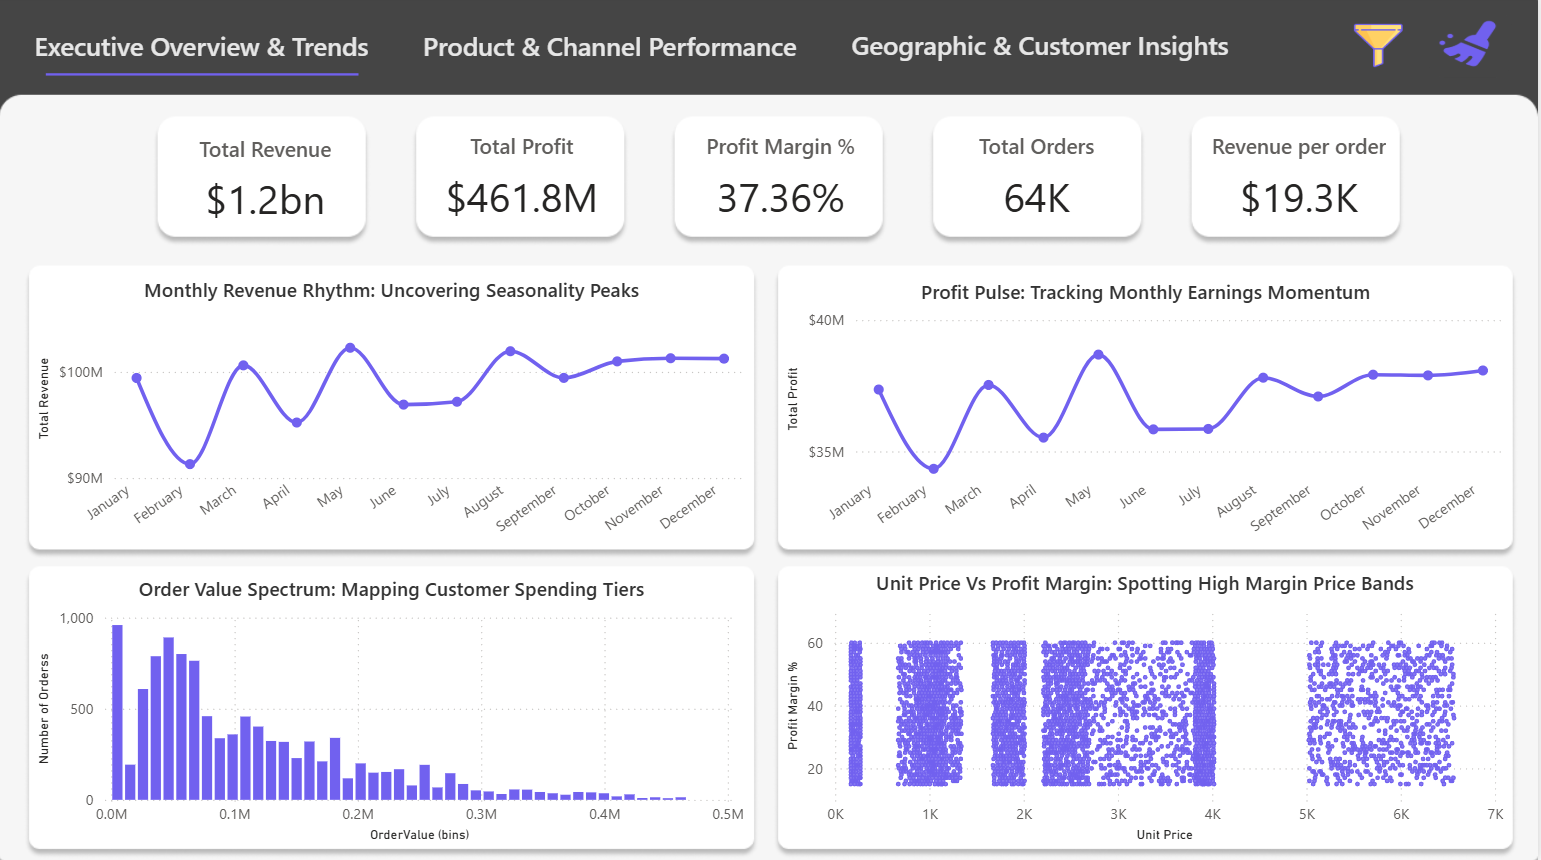

What the dashboard file says about the page in this screenshot:
{"tool":"powerbi","page":{"name":"Executive Overview & Trends","canvas":[1280,720],"ordinal":0},"visuals":[{"type":"cardVisual","fields":{"Data":["Measures_.Total Revenue"]},"box":[142,101,158,104],"z":0},{"type":"cardVisual","fields":{"Data":["Measures_.Total Profit"]},"box":[350,100,169.2,103.8],"z":1000},{"type":"cardVisual","fields":{"Data":["Measures_.Profit Margin %"]},"box":[552.6,100,194.9,103.8],"z":2000},{"type":"cardVisual","fields":{"Data":["Measures_.Total Orders"]},"box":[787.2,100,152.6,103.8],"z":3000},{"type":"cardVisual","fields":{"Data":["Measures_.Revenue per order"]},"box":[988.3,100,185,103.3],"z":4000},{"type":"lineChart","title":"Monthly Revenue Rhythm: Uncovering Seasonality Peaks","fields":{"Category":["Sales_data.order_month_name"],"Y":["Measures_.Total Revenue"]},"box":[26.9,233.3,598.7,235.9],"z":5000},{"type":"lineChart","title":"Profit Pulse: Tracking Monthly Earnings Momentum","fields":{"Category":["Sales_data.order_month_name"],"Y":["Measures_.Total Profit"]},"box":[650,234.6,607.7,234.6],"z":6000},{"type":"scatterChart","title":"Unit Price Vs Profit Margin: Spotting High Margin Price Bands","fields":{"X":["Sales_data.unit_price"],"Y":["Sales_data.profit_margin_pct"]},"box":[650,476.9,606.4,232.1],"z":7000},{"type":"columnChart","title":"Order Value Spectrum: Mapping Customer Spending Tiers","fields":{"Category":["Order_Value_Distribution.OrderValue (bins)"],"Y":["CountNonNull(Order_Value_Distribution.order_number)"]},"box":[26.9,482.1,598.7,226.9],"z":8000},{"type":"actionButton","box":[337.2,14.1,342.3,55.1],"z":10000},{"type":"actionButton","box":[9,14.1,317.9,55.1],"z":11000},{"type":"actionButton","box":[693.8,13.8,342.5,55],"z":12000},{"type":"actionButton","box":[1188,14,70,55],"z":14000},{"type":"actionButton","box":[1120,21,53,42],"z":14500}]}

Visuals, with their boxes in screenshot pixels (x1, y1, x2, y2), scaled from the page's 1280x720 canvas onto the 1541x860 screenshot:
cardVisual - Measures_.Total Revenue: (171,121,361,245)
cardVisual - Measures_.Total Profit: (421,119,625,243)
cardVisual - Measures_.Profit Margin %: (665,119,900,243)
cardVisual - Measures_.Total Orders: (948,119,1131,243)
cardVisual - Measures_.Revenue per order: (1190,119,1413,243)
"Monthly Revenue Rhythm: Uncovering Seasonality Peaks" lineChart: (32,279,753,560)
"Profit Pulse: Tracking Monthly Earnings Momentum" lineChart: (783,280,1514,560)
"Unit Price Vs Profit Margin: Spotting High Margin Price Bands" scatterChart: (783,570,1513,847)
"Order Value Spectrum: Mapping Customer Spending Tiers" columnChart: (32,576,753,847)
actionButton: (406,17,818,83)
actionButton: (11,17,394,83)
actionButton: (835,16,1248,82)
actionButton: (1430,17,1515,82)
actionButton: (1348,25,1412,75)
